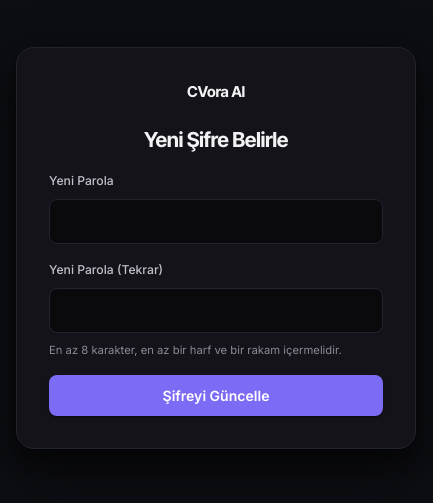
ResetPasswordPage › shows the backend error for an invalid/expired token
Type "NewPassword2" into the password field labelled "Yeni Parola" at [216, 222], box [49,199,383,244]
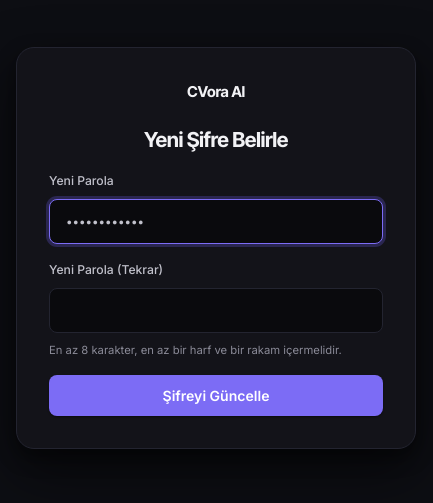
Type "NewPassword2" into the password field labelled "Yeni Parola (Tekrar)" at [216, 311], box [49,288,383,333]
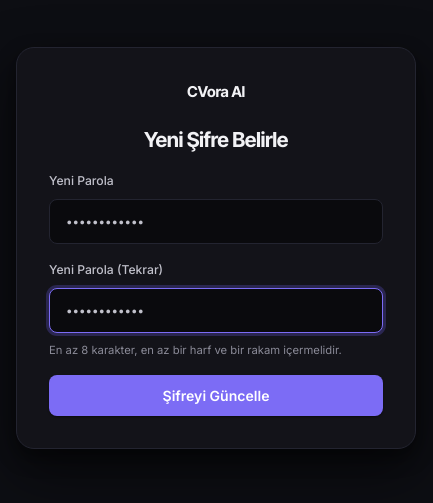
Click the button "Şifreyi Güncelle" at [216, 396], box [49,375,383,416]
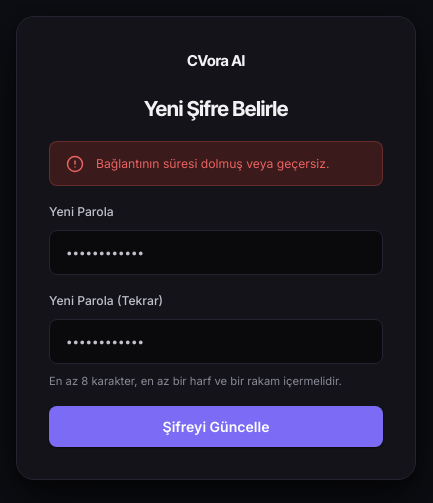
Check: the text "Bağlantının süresi dolmuş veya geçersiz." is shown, box [96,154,330,173]
